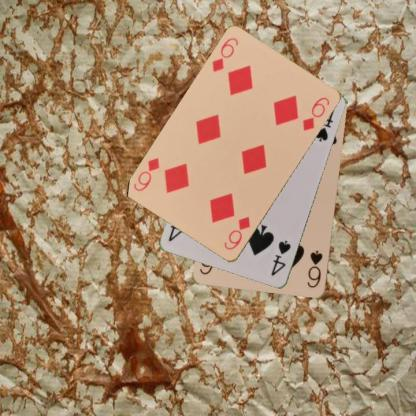4s: (268, 238, 292, 278)
6d: (209, 35, 240, 74), (221, 214, 252, 252)
6s: (305, 248, 324, 289)
